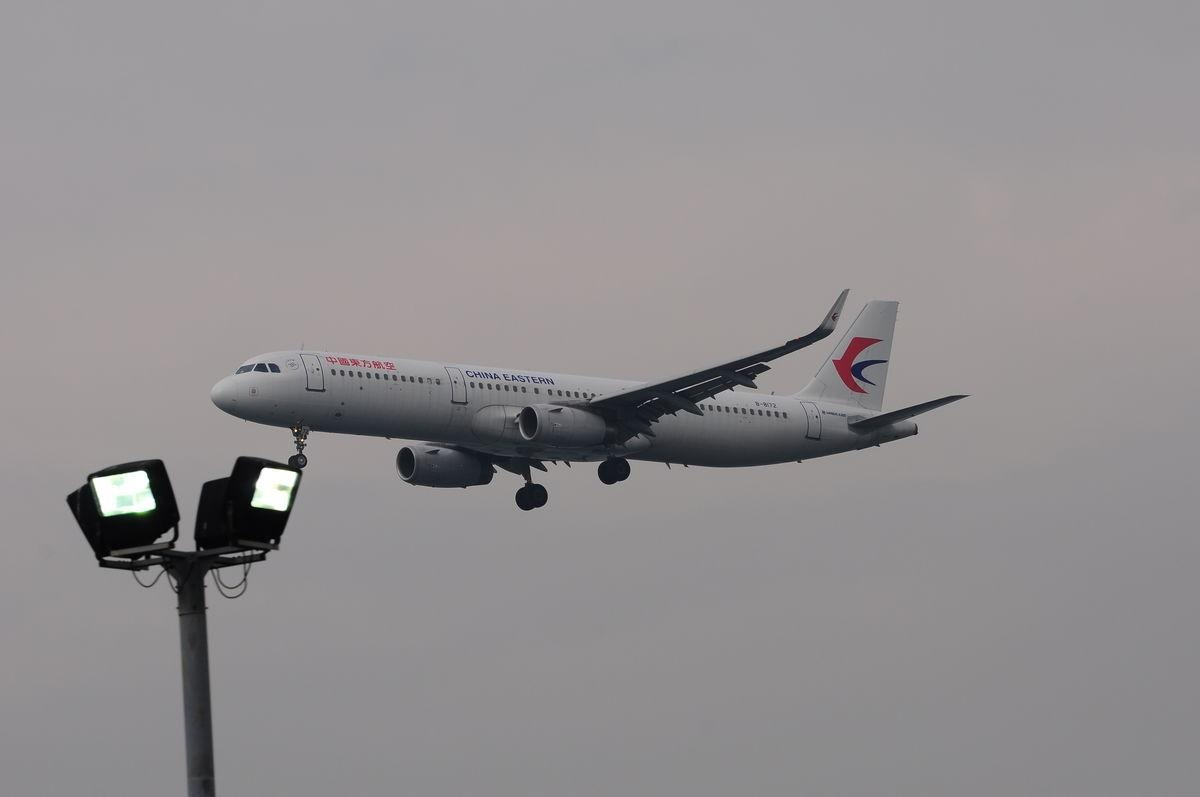airplane: (209, 289, 956, 509)
